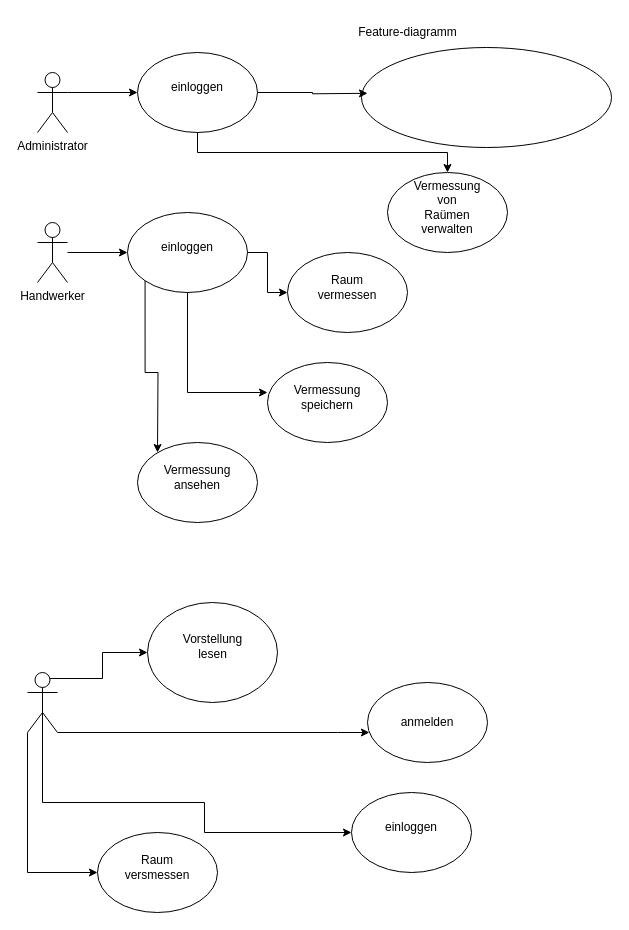
Image size: 629x930. Some labels were removed from this diagram. The box of each missing label's shape, as (x1, y1, x2, y2) in pixels:
Besucher: (26, 672, 58, 732)
Handwerker verwalten: (360, 46, 612, 148)
